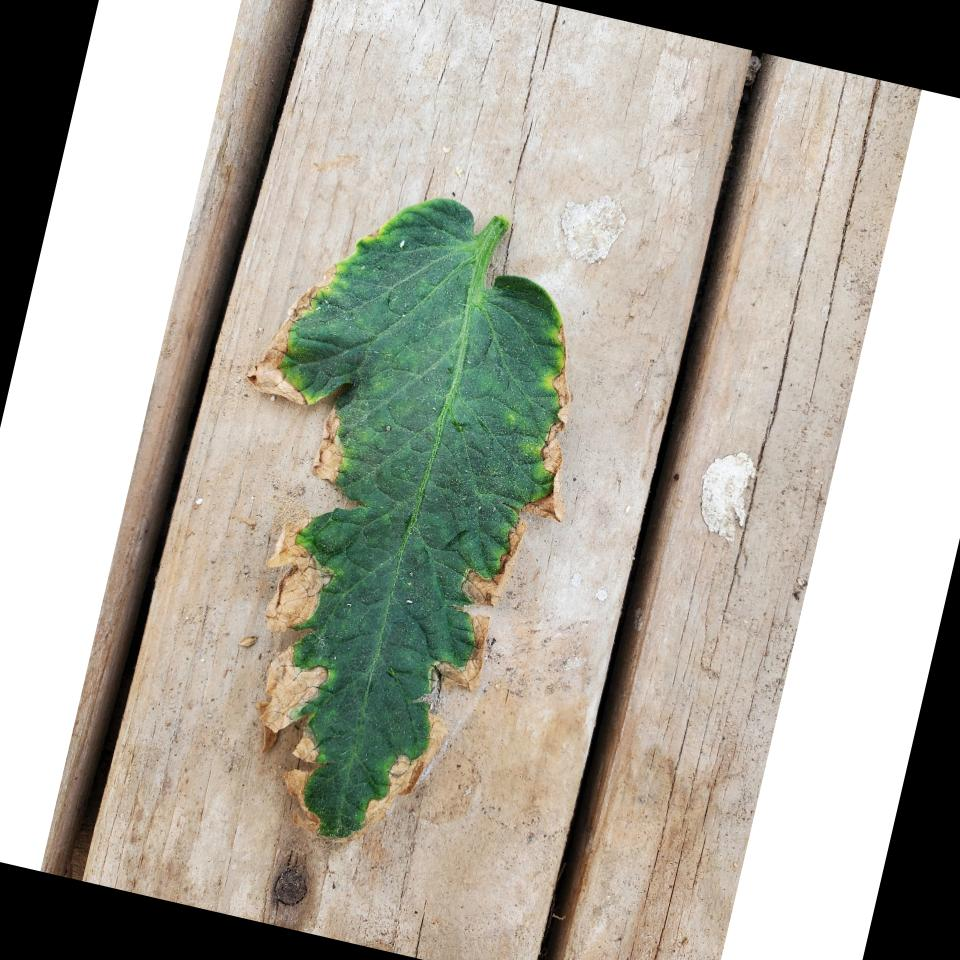tomato_bacterial_blight: (152, 151, 608, 882)
